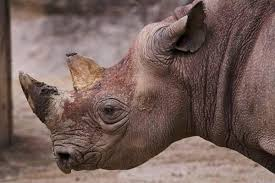Rhinoceros: (6, 4, 236, 181)
